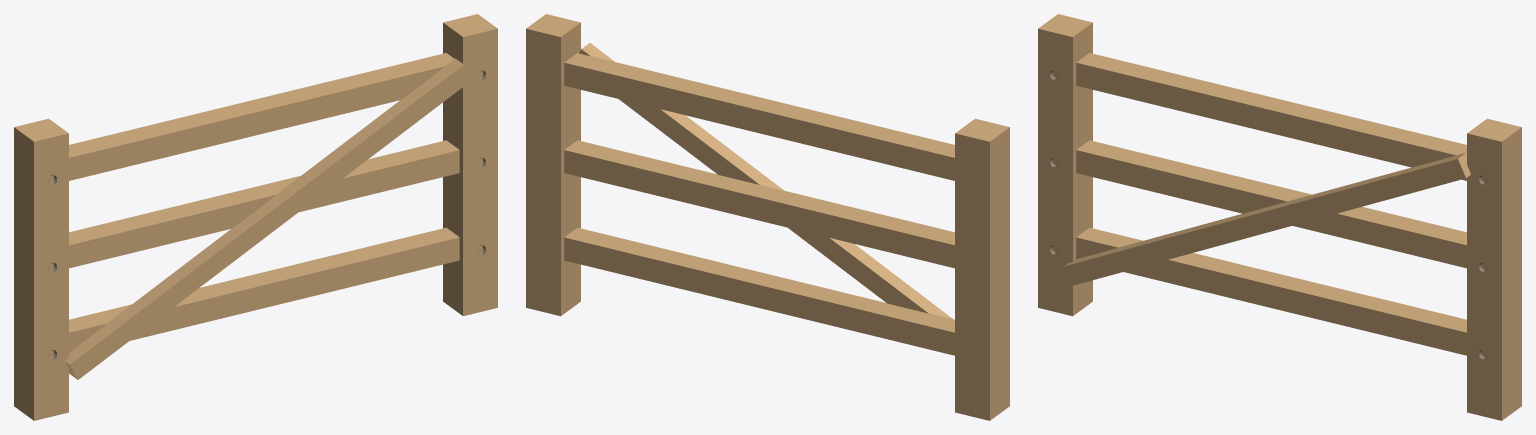
File: harvest-hearth-split-rail-fence.glb
3 views of the same model, side by side, from view 1: azimuth 30°, elevation 25°; view 2: azimuth 150°, elevation 25°; view 3: azimuth 330°, elevation 25° (orthographic).
Visible parts, largest first — view 1: harvest-hearth-split-rail-fence; view 2: harvest-hearth-split-rail-fence; view 3: harvest-hearth-split-rail-fence.
Boxes of the visible parts, x1,y1,x2,y2 form: harvest-hearth-split-rail-fence: [14, 14, 497, 420]; harvest-hearth-split-rail-fence: [526, 14, 1009, 420]; harvest-hearth-split-rail-fence: [1038, 14, 1521, 420].
Size of the model in its own units: 2 by 1.15 by 0.1875.
